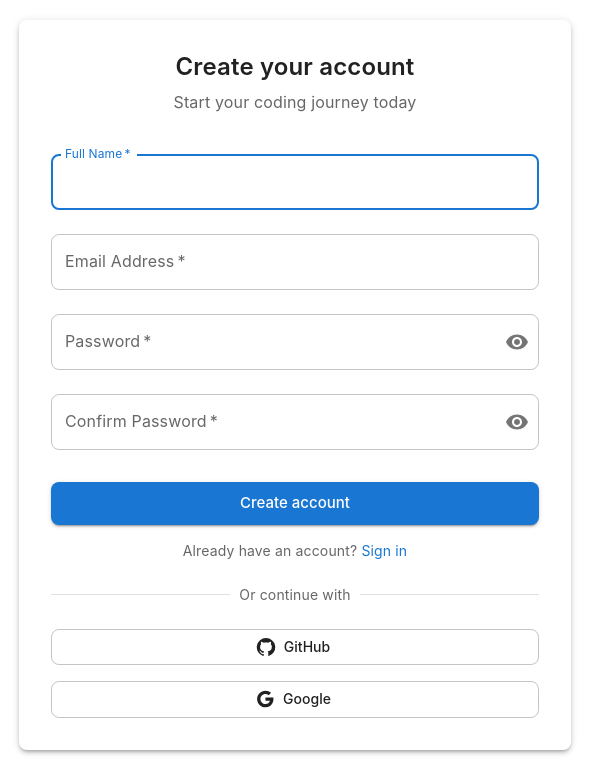
RegisterPage › should show validation error for invalid email
Type "invalid-email" into the field labelled "Email Address *" at (295, 262), box [51,234,539,290]
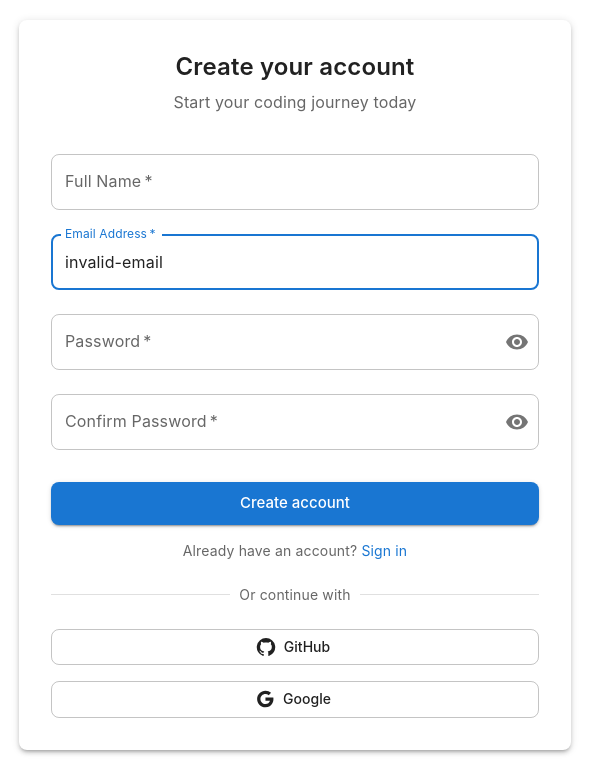
Click the button "Create account" at (295, 504), box [51,482,539,525]
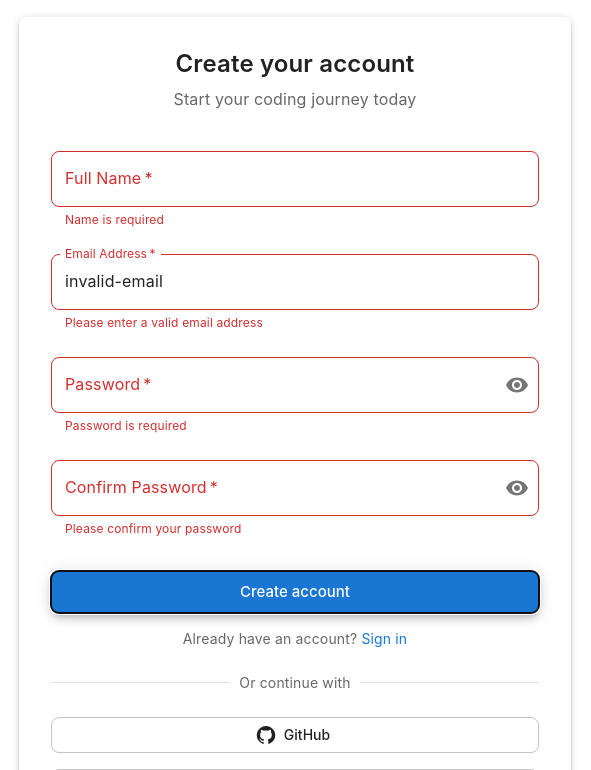
Expected: the text "Please enter a valid email address" is shown, [65,315,263,330]
